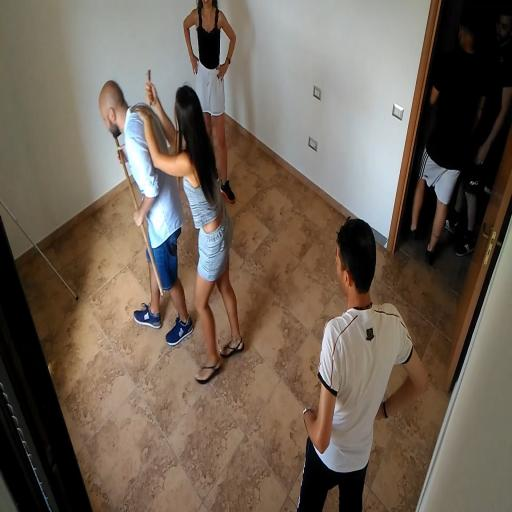violencia: (82, 64, 251, 388)
